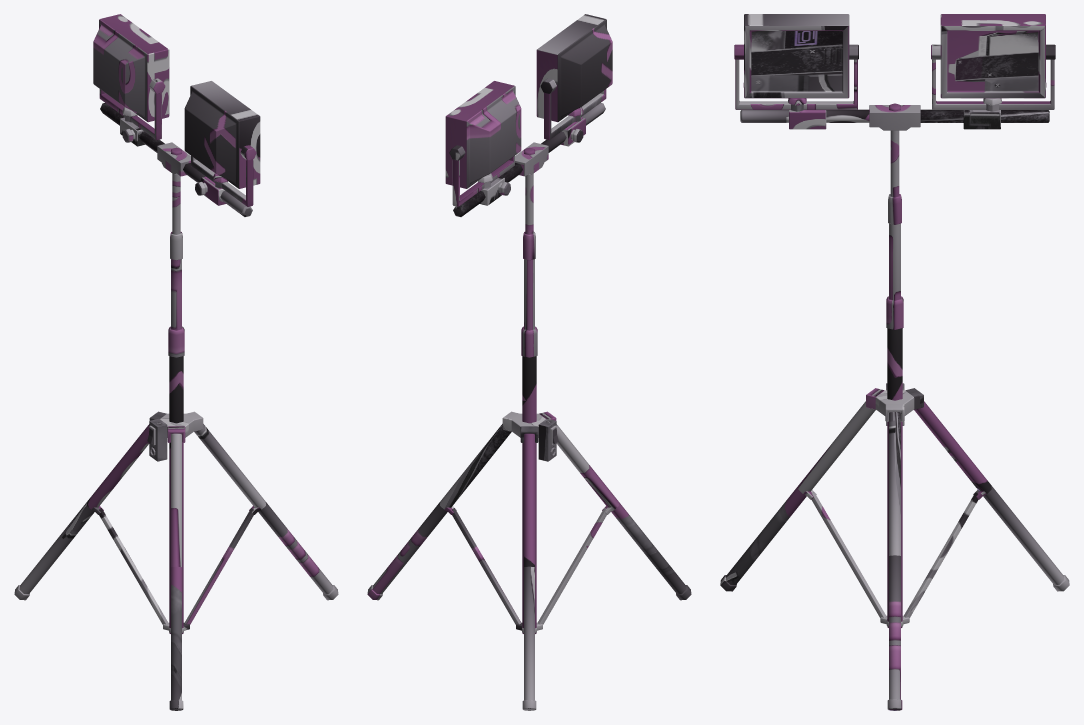
The model's file is SM_TallFloodLight.fbx.
The picture shows the model from 3 angles, left to right: view 1: azimuth 30°, elevation 25°; view 2: azimuth 150°, elevation 25°; view 3: azimuth 270°, elevation 25°; orthographic projection. The views are drawn at different scales.
Parts seen in each view (by area): view 1: Tall Flood Lamp.001, Tall Floodlight - legs.001, Tall floodlight - main body.001, Tall Flood Lamp - handle.001, Tall Flood Lamp - switch and outlet.001, Cylinder.002; view 2: Tall Flood Lamp.001, Tall Floodlight - legs.001, Tall floodlight - main body.001, Tall Flood Lamp - handle.001, Tall Flood Lamp - switch and outlet.001, Cylinder.002; view 3: Tall Flood Lamp.001, Tall Floodlight - legs.001, Tall floodlight - main body.001, Tall Flood Lamp - handle.001, Cylinder.002, Cylinder.003.
Boxes of the visible parts, x1=… form: Tall Flood Lamp.001: x1=93, y1=14, x2=260, y2=188; Tall Floodlight - legs.001: x1=14, y1=424, x2=338, y2=710; Tall floodlight - main body.001: x1=100, y1=103, x2=252, y2=633; Tall Flood Lamp - handle.001: x1=99, y1=78, x2=256, y2=206; Tall Flood Lamp - switch and outlet.001: x1=147, y1=418, x2=167, y2=461; Cylinder.002: x1=149, y1=411, x2=203, y2=630; Tall Flood Lamp.001: x1=445, y1=14, x2=612, y2=188; Tall Floodlight - legs.001: x1=367, y1=424, x2=691, y2=710; Tall floodlight - main body.001: x1=453, y1=103, x2=605, y2=633; Tall Flood Lamp - handle.001: x1=449, y1=78, x2=606, y2=206; Tall Flood Lamp - switch and outlet.001: x1=538, y1=418, x2=558, y2=461; Cylinder.002: x1=502, y1=411, x2=556, y2=630; Tall Flood Lamp.001: x1=743, y1=14, x2=1046, y2=98; Tall Floodlight - legs.001: x1=720, y1=401, x2=1069, y2=710; Tall floodlight - main body.001: x1=740, y1=103, x2=1049, y2=627; Tall Flood Lamp - handle.001: x1=734, y1=44, x2=1055, y2=129; Cylinder.002: x1=866, y1=388, x2=923, y2=624; Cylinder.003: x1=875, y1=390, x2=914, y2=626.
Bounding box in the file's own units: 67.61 × 77.2 × 149.
